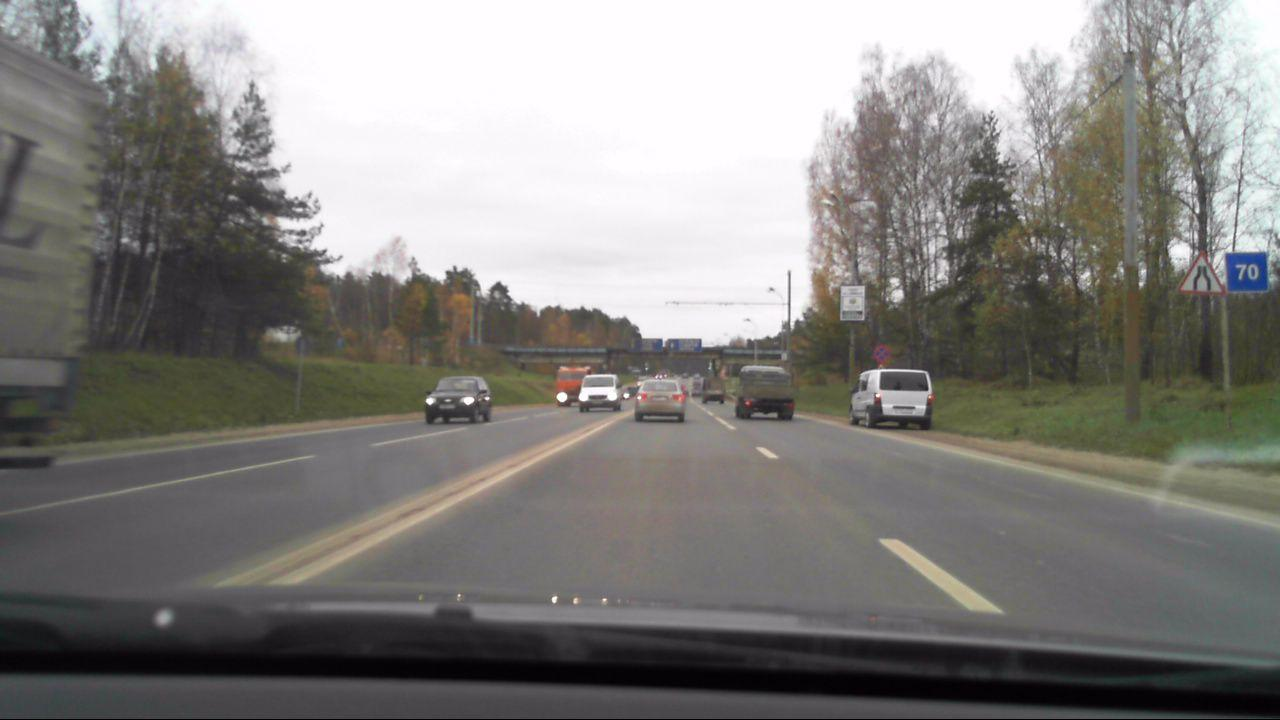1_20_1: (1177, 255, 1224, 293)
3_27: (872, 344, 892, 363)
6_2: (1225, 252, 1271, 291)
